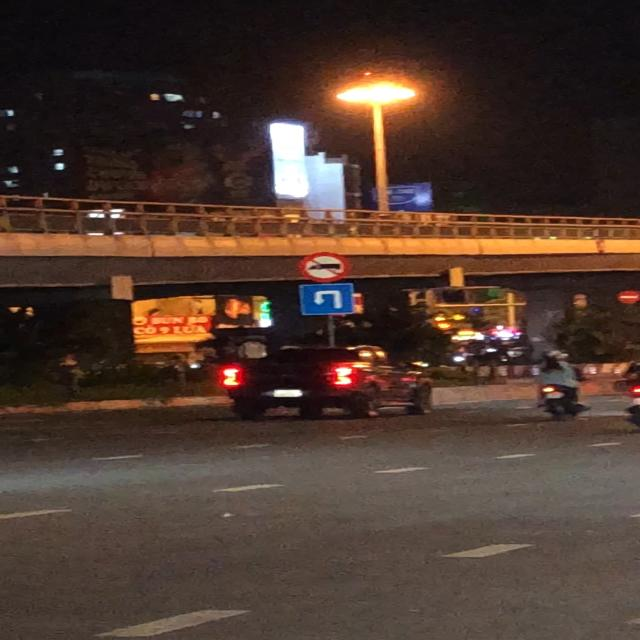Bien bao cam xe so-mi ro-mooc: (298, 251, 352, 283)
